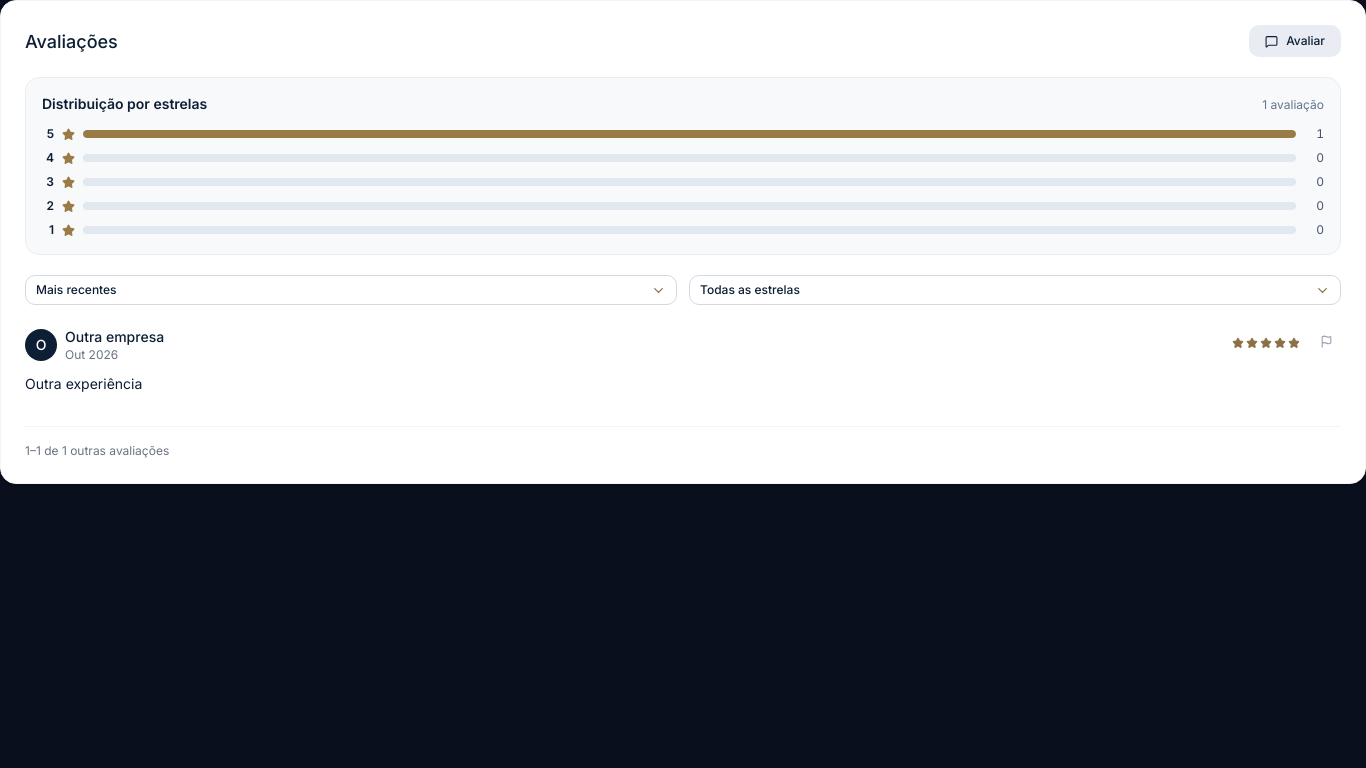
Test case: Formulário de avaliação do perfil público › conserva o rascunho com erro 422 sem repetir o POST
Click the button "Avaliar".
click(1295, 41)  # box [1249,25,1341,57]
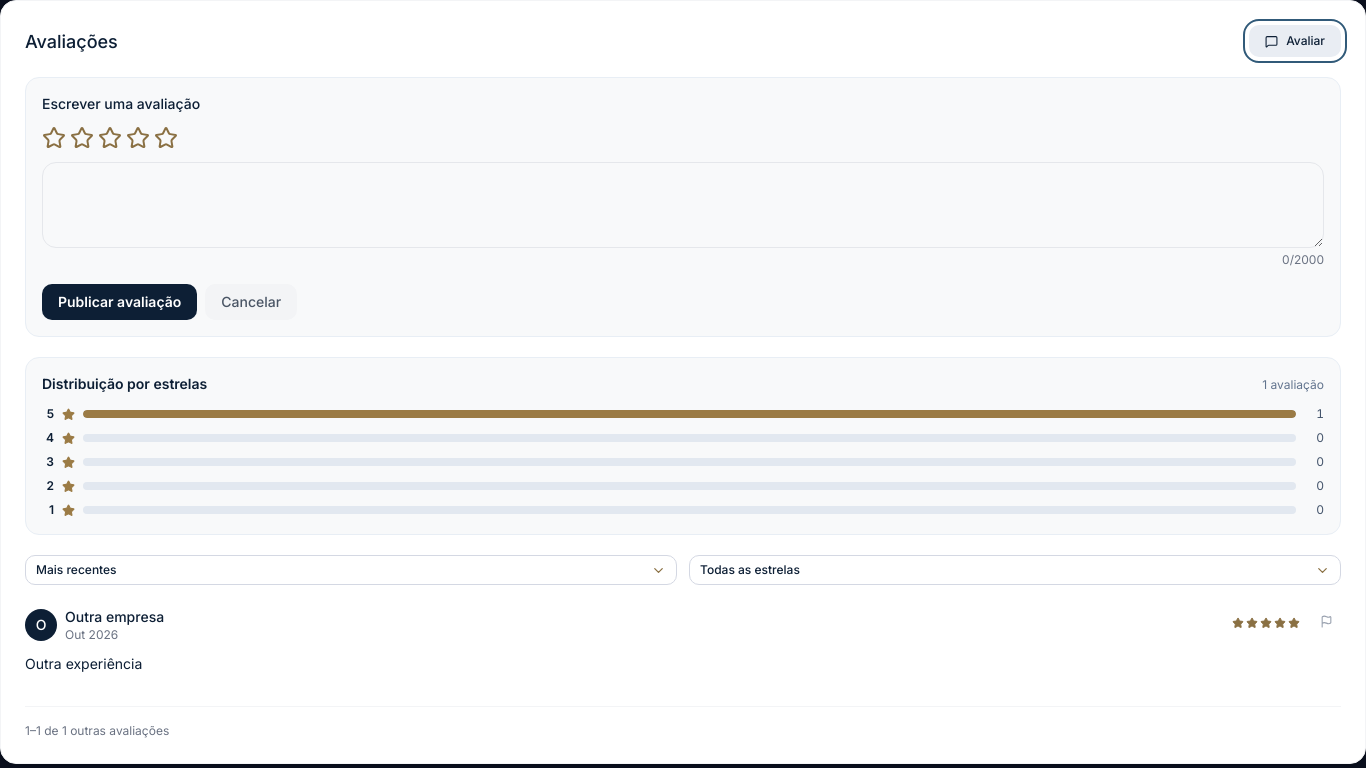
Click the radio button named "5 estrelas".
click(166, 138)  # box [154,126,178,150]
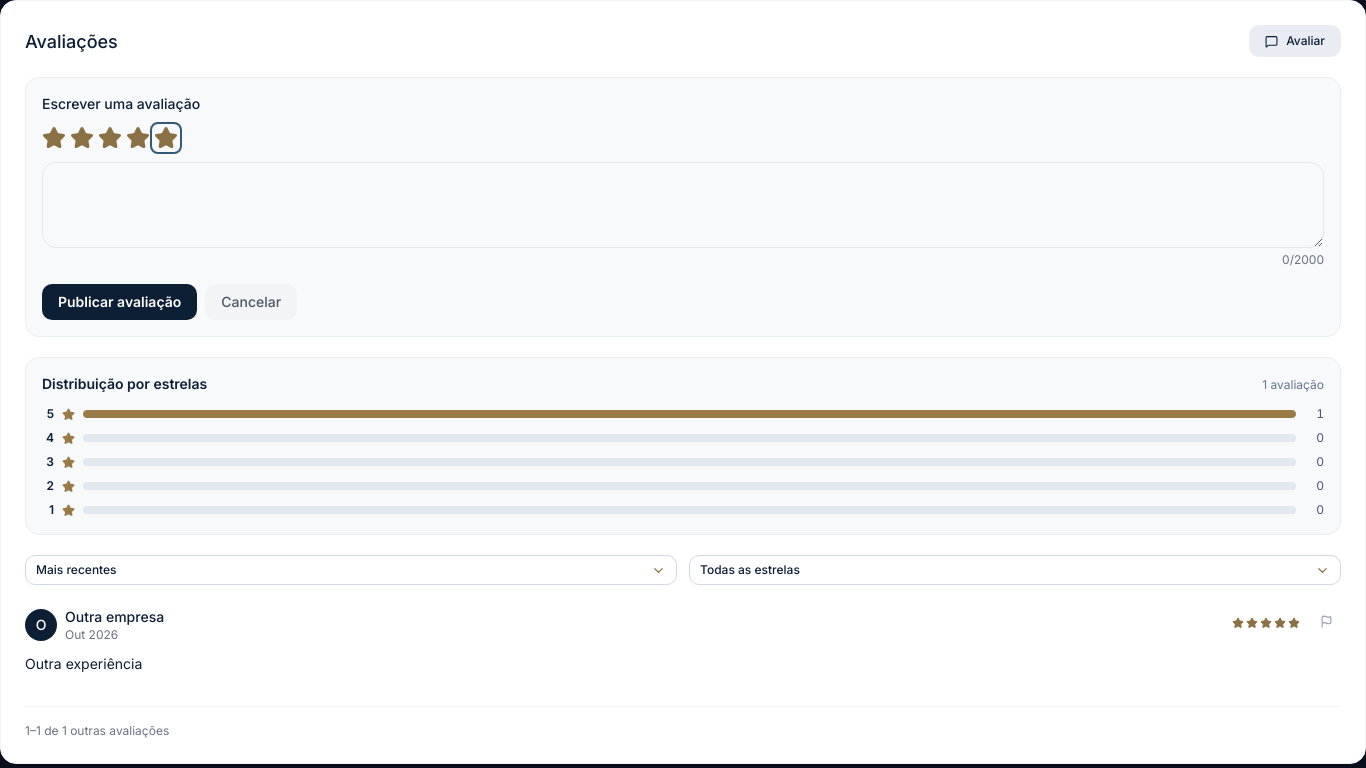
Type "Texto a preservar" into the text box.
click(683, 205); type("Texto a preservar")  # box [42,162,1324,248]
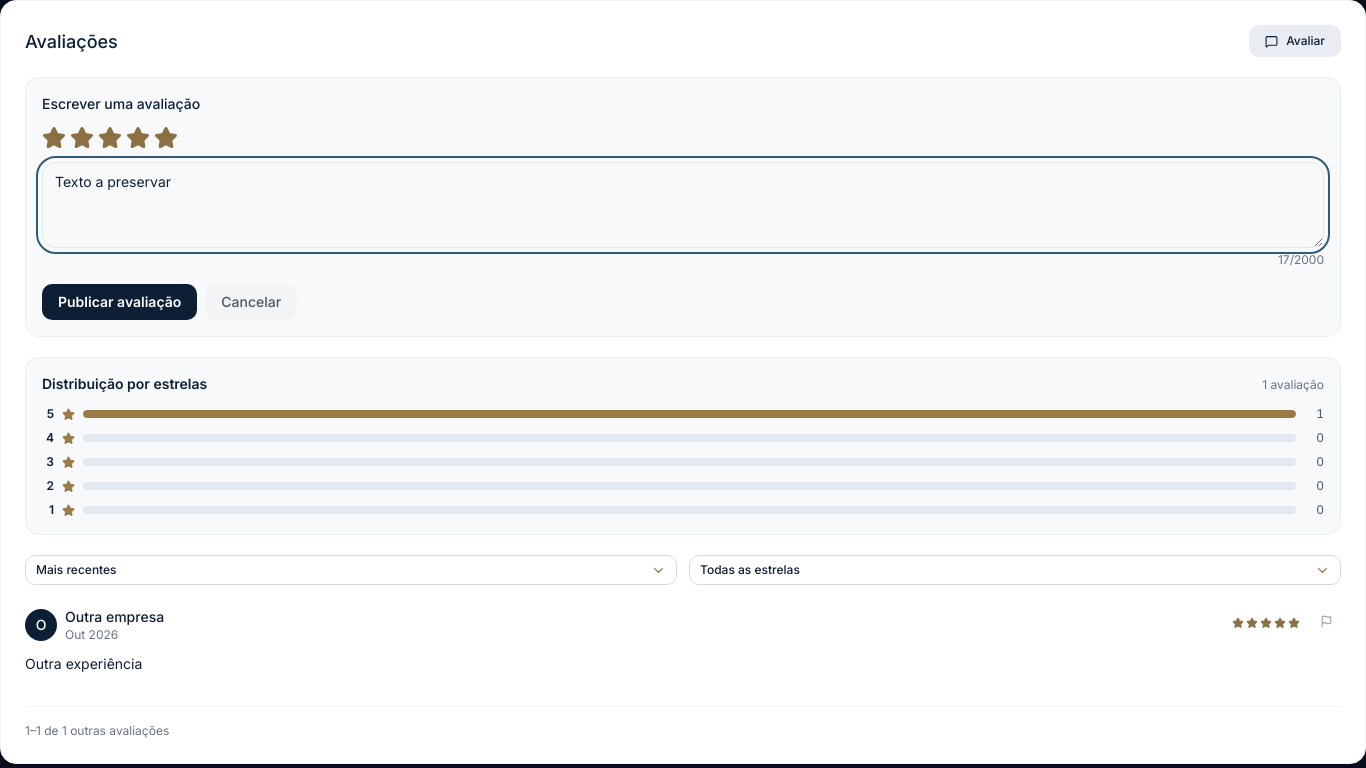
Click the button "Publicar avaliação".
click(120, 302)  # box [42,284,197,320]
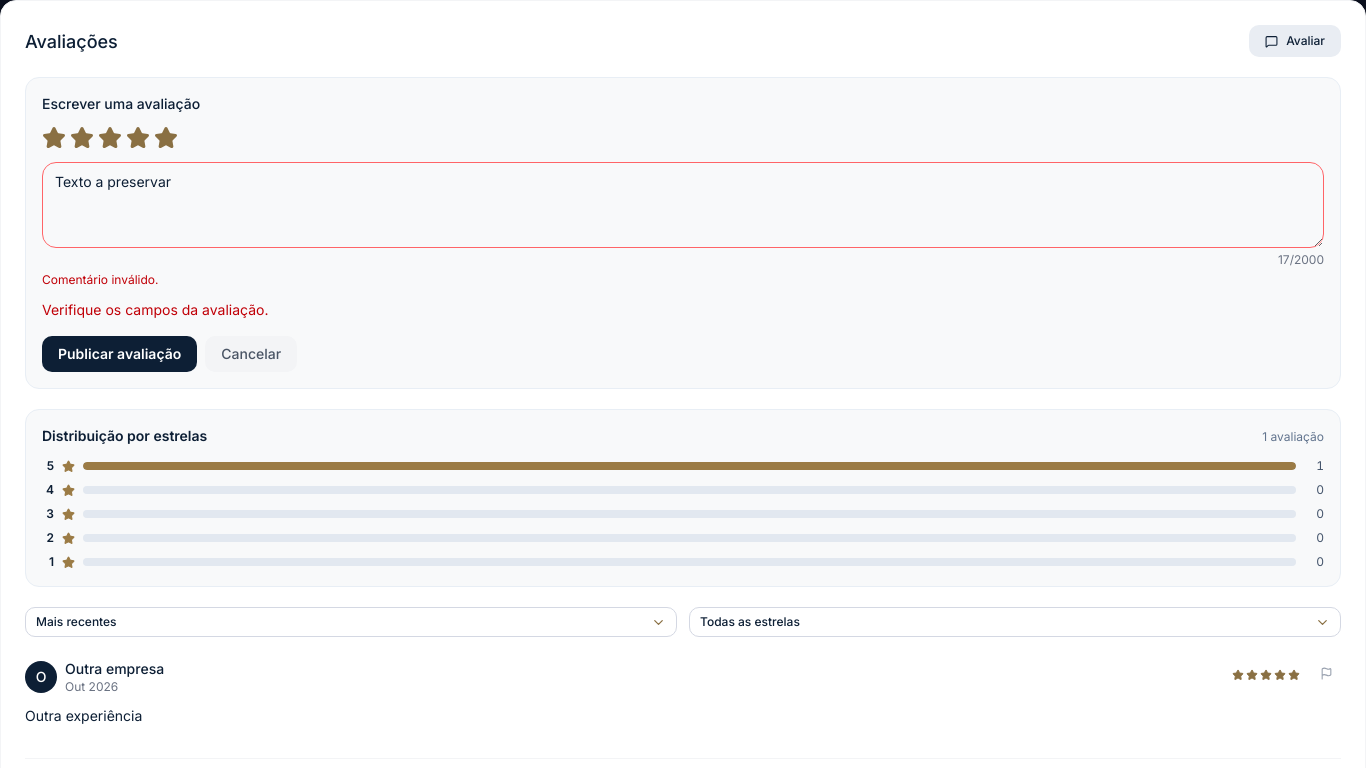
Now the message "Verifique os campos da avaliação." is shown, box [42,301,268,318]
Now the text "Comentário inválido." is shown, box [42,272,158,287]
